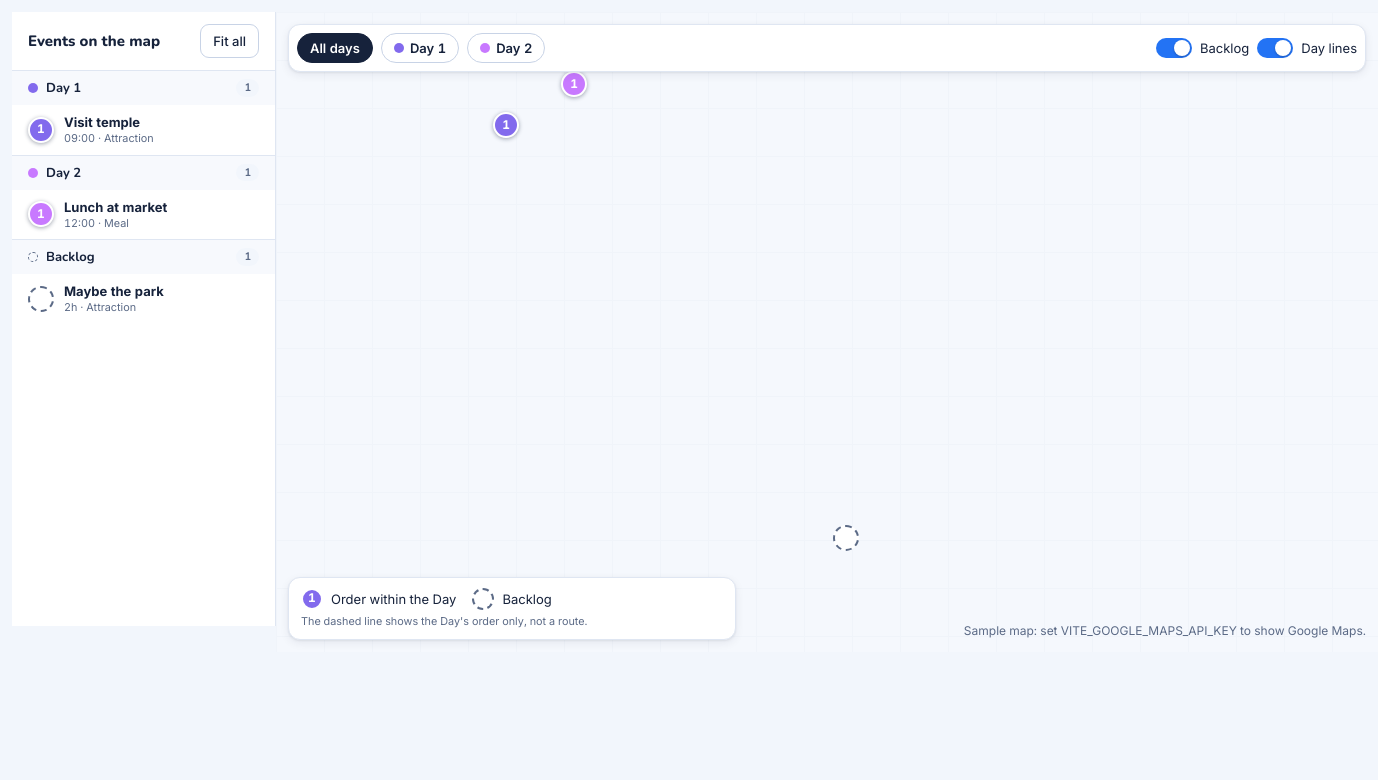
Test: Map View › shows one Day when its chip is chosen, still with the Backlog
Expected: the button named "Visit temple" is shown, [493,112,519,138]
Click the button "Day 2": (506, 48) [467,33,545,63]
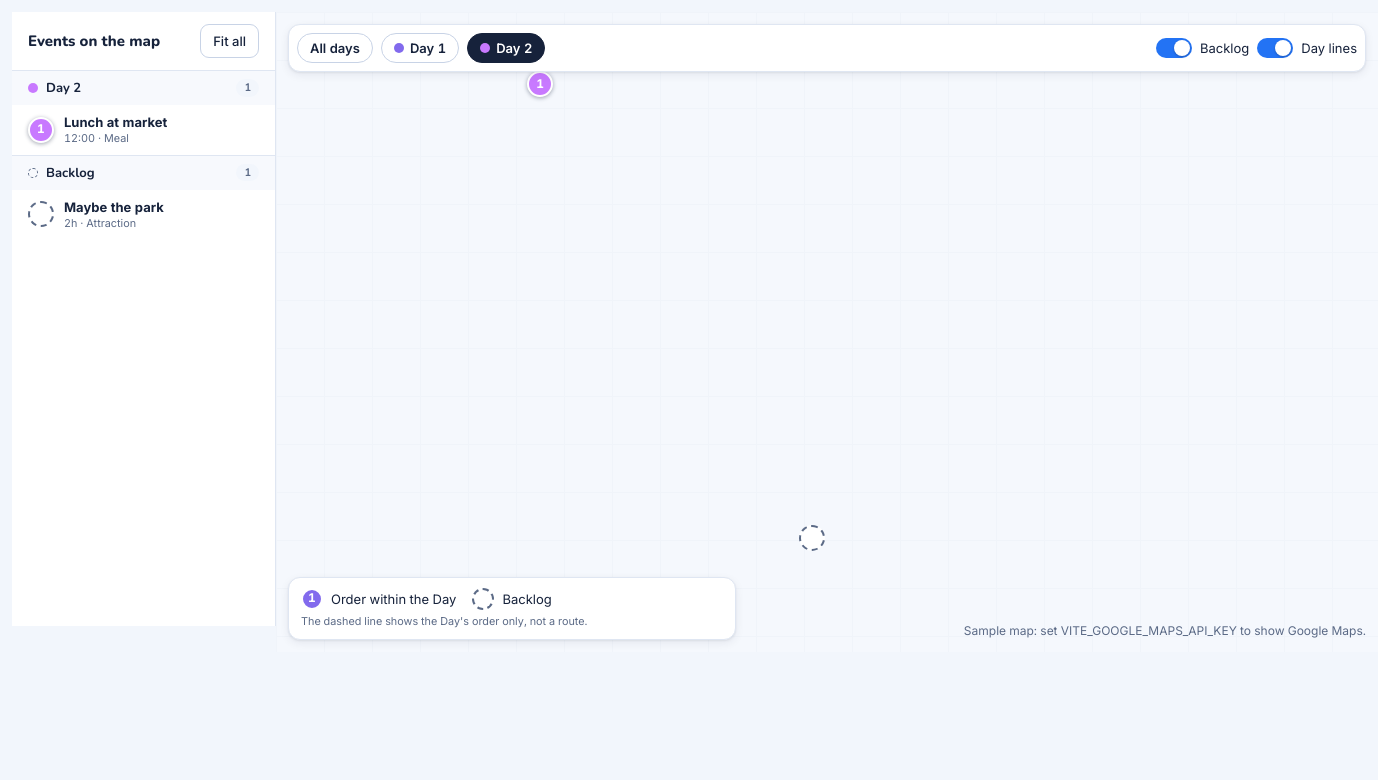
Expected: the button named "Lunch at market" is shown, [527,71,553,97]
Now the button "Visit temple" is gone
